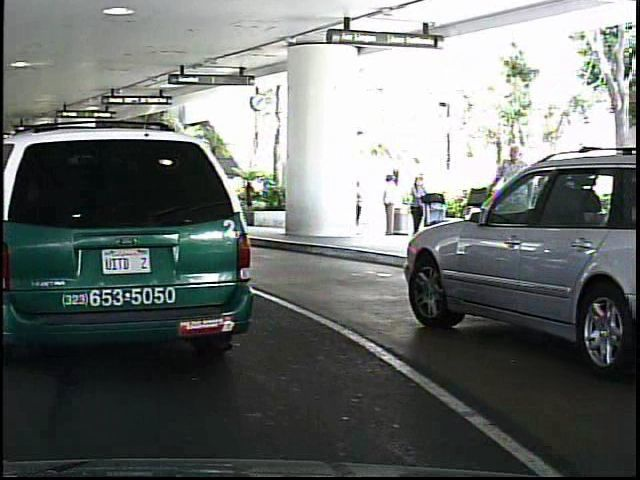person: (484, 137, 535, 275), (401, 168, 431, 238)
